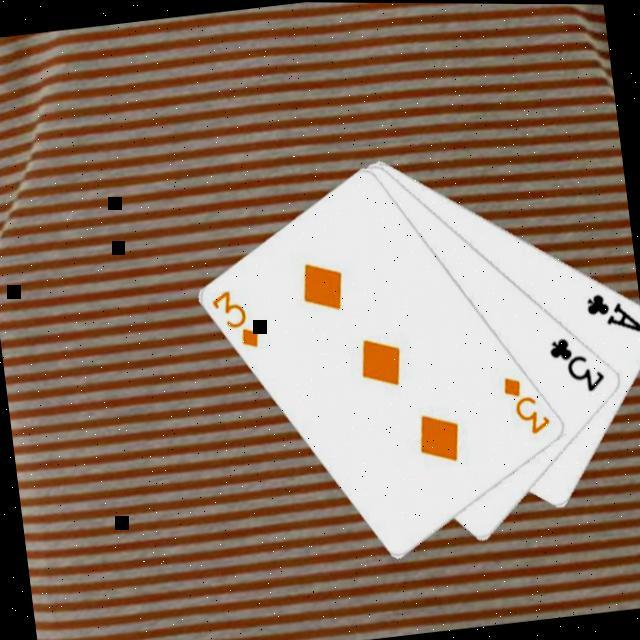3C: (544, 327, 608, 398)
3D: (496, 367, 554, 439), (205, 282, 262, 354)
AC: (579, 282, 640, 340)
